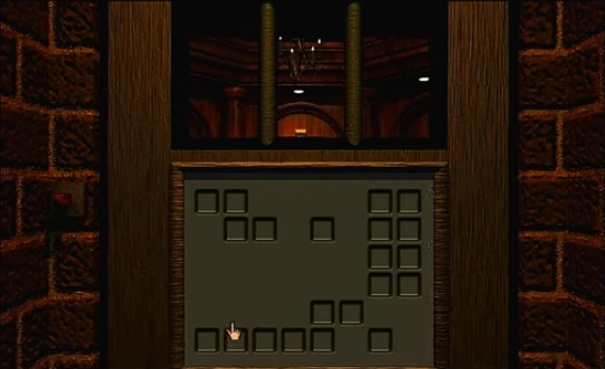Pointer: (223, 318, 246, 342)
